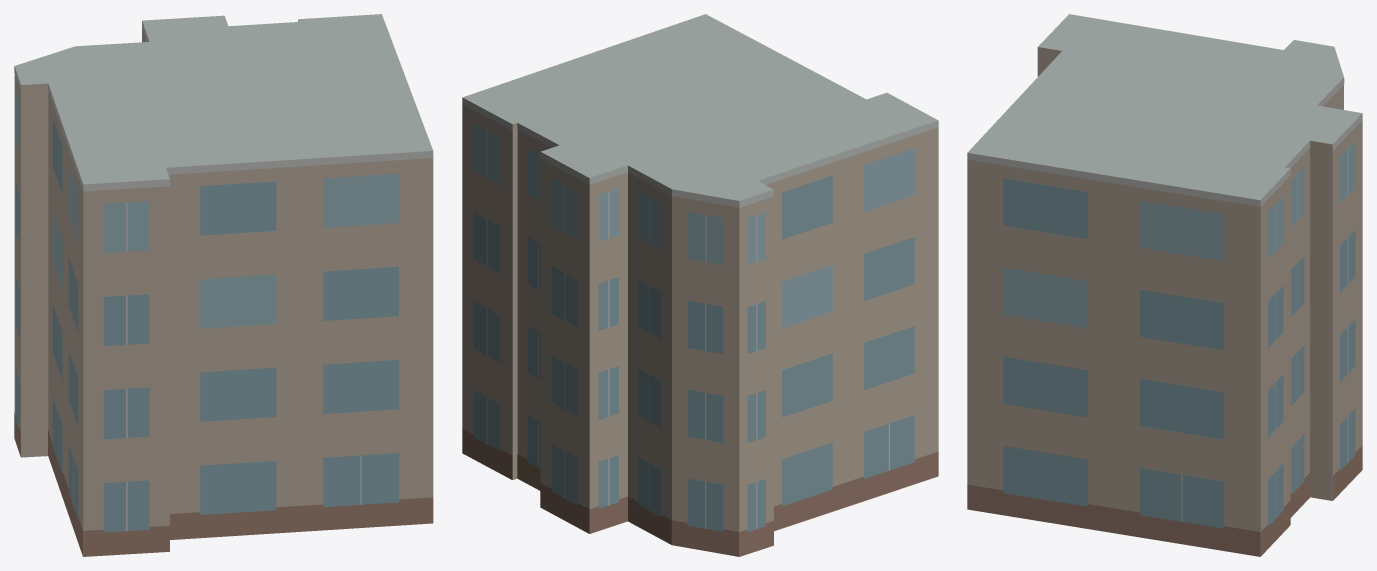
File: survey-upis-33009572.glb
3 renders of one model, left to right at view 1: azimuth 30°, elevation 25°; view 2: azimuth 150°, elevation 25°; view 3: azimuth 270°, elevation 25°, orthographic. The views are drawn at different scales.
Visible parts, largest first — view 1: survey-upis-33009572.tmp; view 2: survey-upis-33009572.tmp; view 3: survey-upis-33009572.tmp.
Part boxes in pixels (bbox=[...]): survey-upis-33009572.tmp: bbox=[14, 14, 433, 556]; survey-upis-33009572.tmp: bbox=[462, 14, 938, 556]; survey-upis-33009572.tmp: bbox=[967, 14, 1362, 556].
Bounding box in the file's own units: 14.34 × 12.8 × 12.87.
